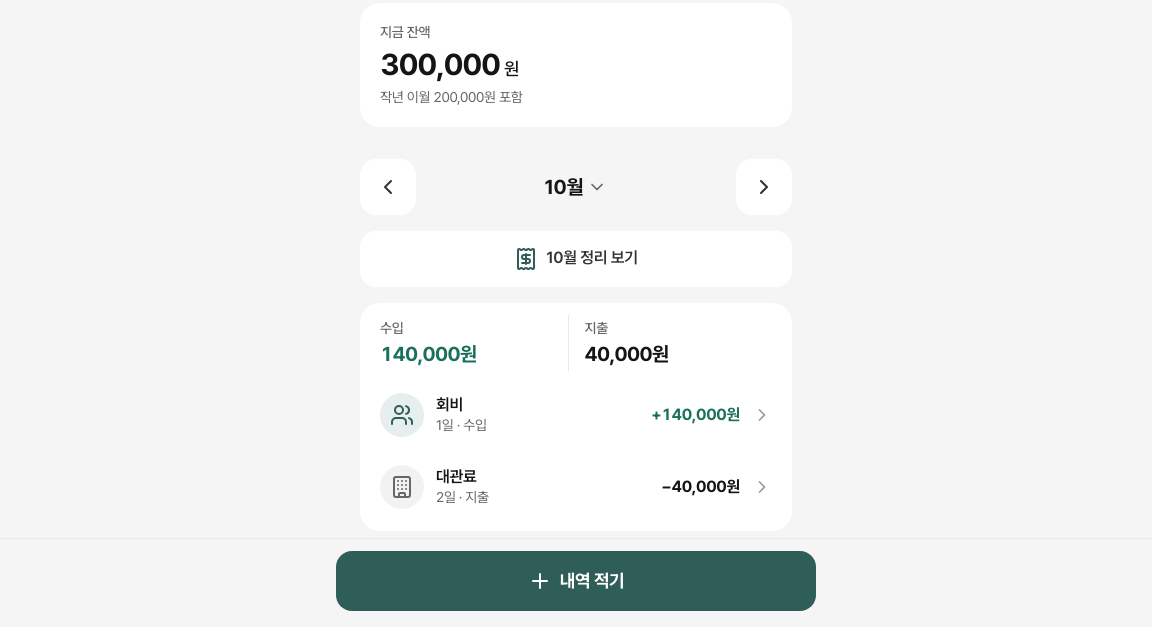
Test: SPEC-002 v2.6 저장 실패 안내·저장 안 됨 표시 › AC-9 저장에 실패한 뒤 고친 줄에도 "저장 안 됨" 이 붙는다
Click the button "대관료 2일 · 지출 −40,000원".
click(402, 487)  # box [360, 451, 792, 523]
(page scrolled)
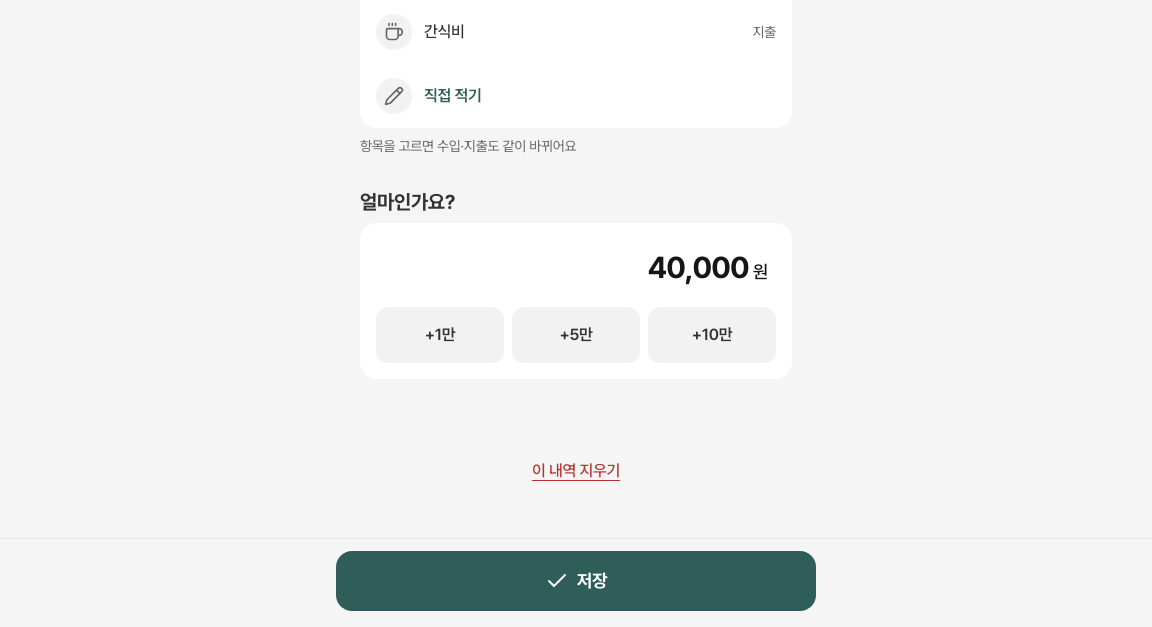
Replace the text in the field named "얼마인가요?" with "45000" at (566, 267), box [384, 239, 749, 295]
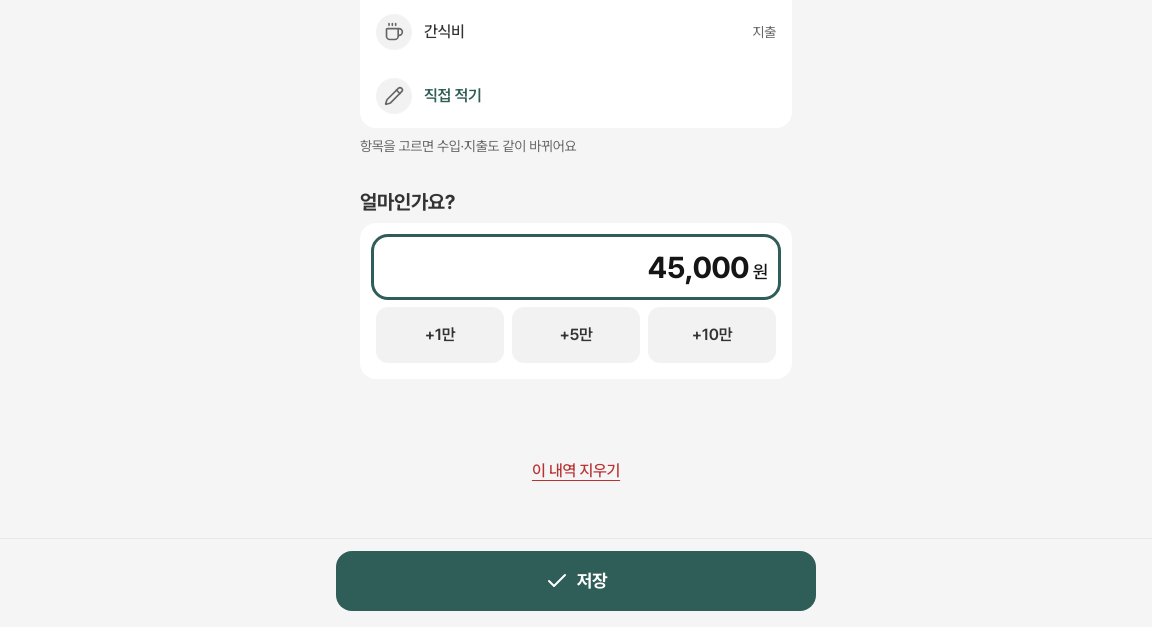
Click the button "저장".
click(576, 581)  # box [336, 551, 816, 611]
(page scrolled)
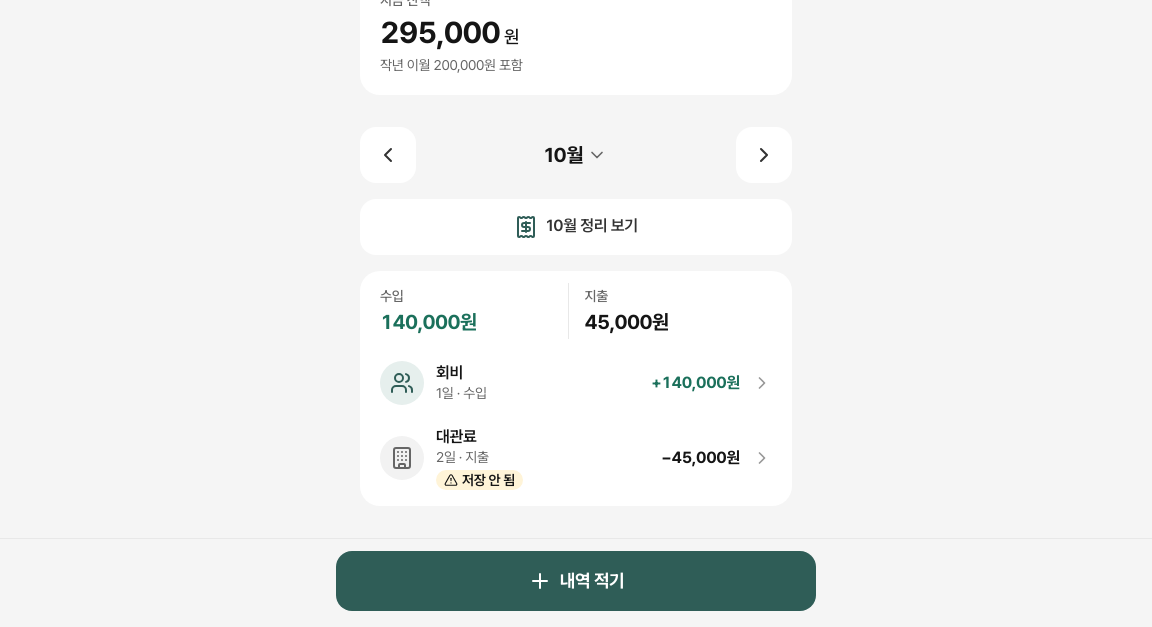
Now the button named "대관료 2일 · 지출 −45,000원 저장 안 됨" is shown, box [360, 419, 792, 498]
